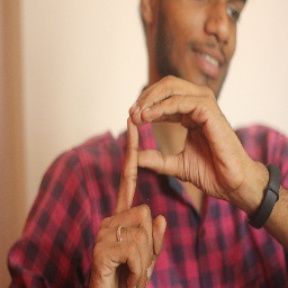P: (91, 75, 238, 263)
